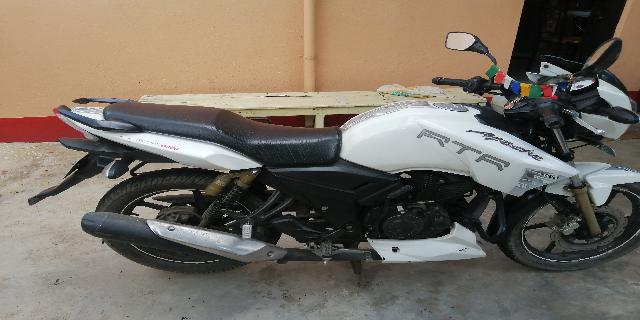Motorbike: (24, 30, 640, 279)
